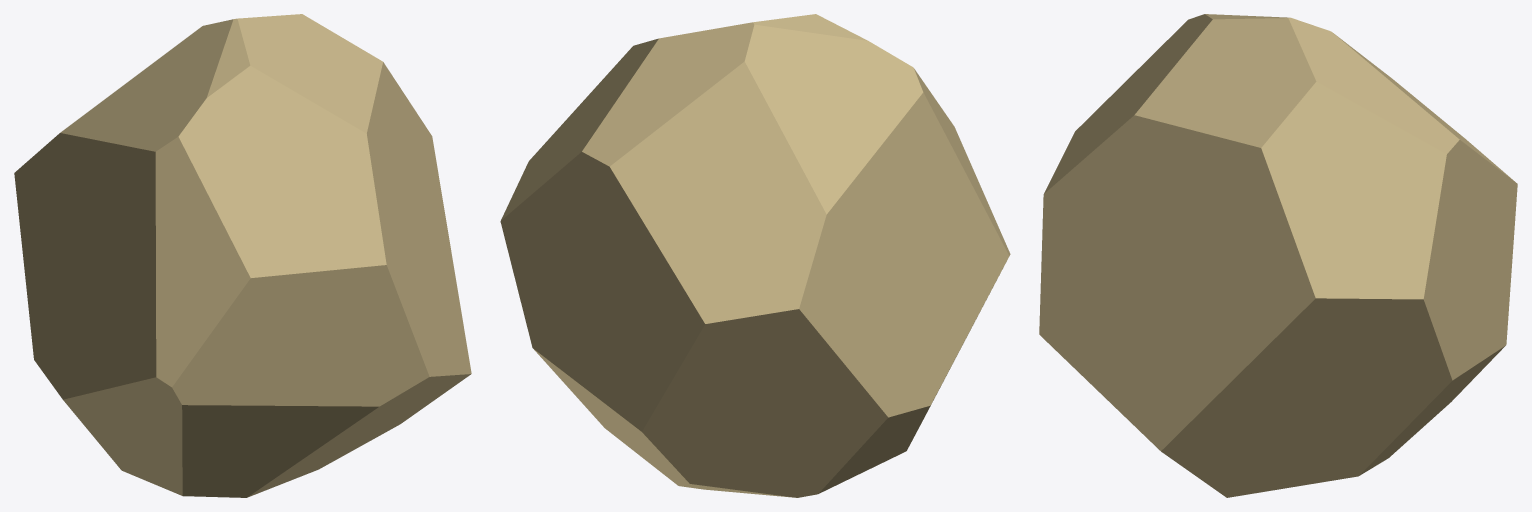
Rendered from hiekkakivi2.fbx.
The picture shows the model from 3 angles, left to right: view 1: azimuth 30°, elevation 25°; view 2: azimuth 150°, elevation 25°; view 3: azimuth 270°, elevation 25°; orthographic projection.
Parts seen in each view (by area): view 1: Cube; view 2: Cube; view 3: Cube.
Part boxes in pixels (x1=…): Cube: x1=14, y1=14, x2=471, y2=497; Cube: x1=500, y1=14, x2=1010, y2=497; Cube: x1=1039, y1=14, x2=1517, y2=497.
Size of the model in its own units: 286 by 314 by 308.
